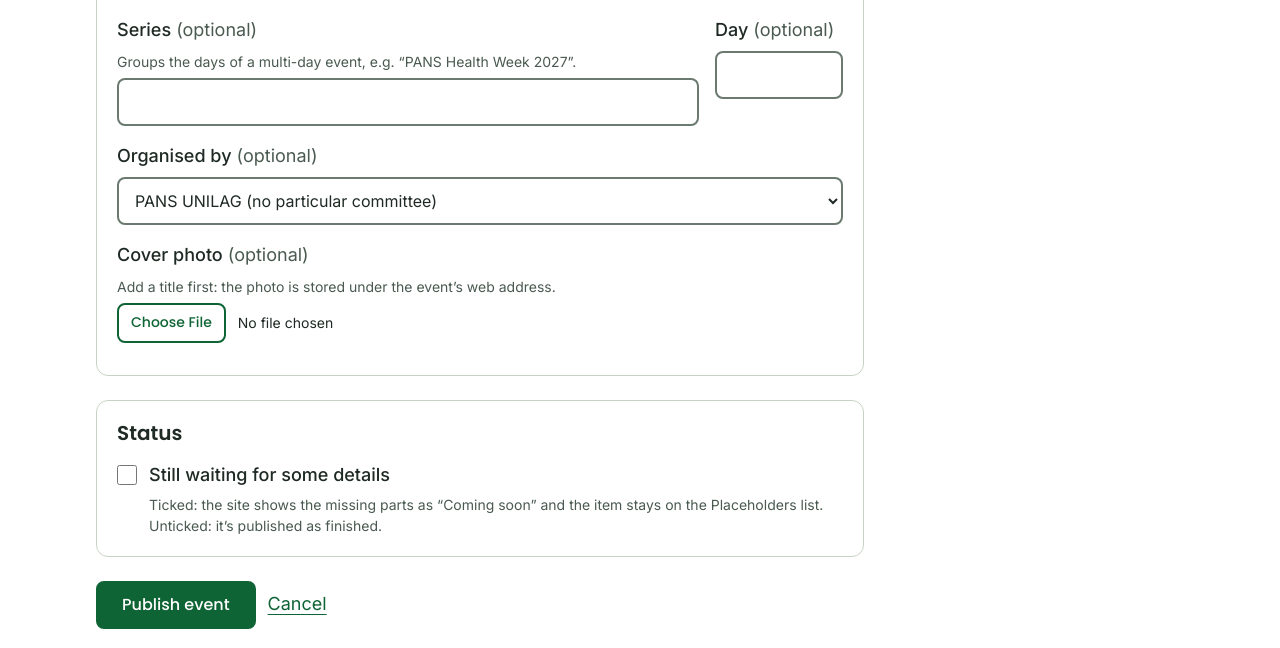
posting an event › checks the form before sending, and lists the problems
(page scrolled)
Click the button "Publish event": (176,604) [96,580,256,628]
(page scrolled)
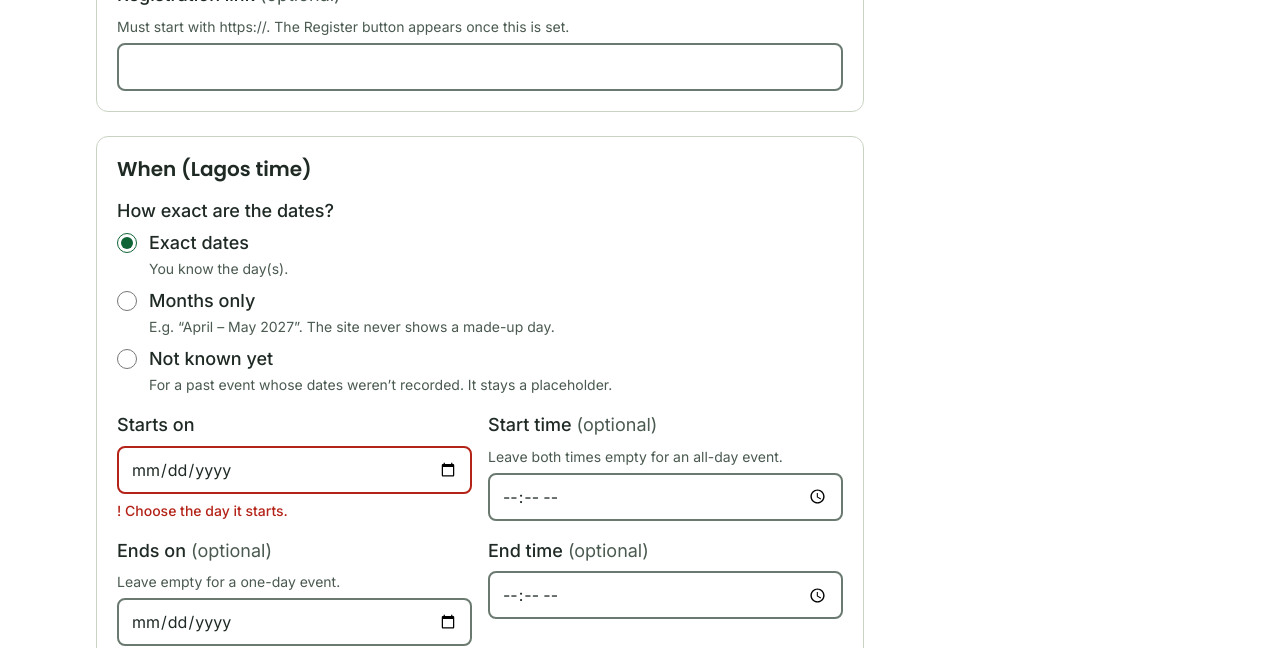
Expected: the date field labelled "Starts on" is marked as invalid, [117,446,472,494]
Click the radio button labelled "Months only": (127,301) [117,291,137,311]
(page scrolled)
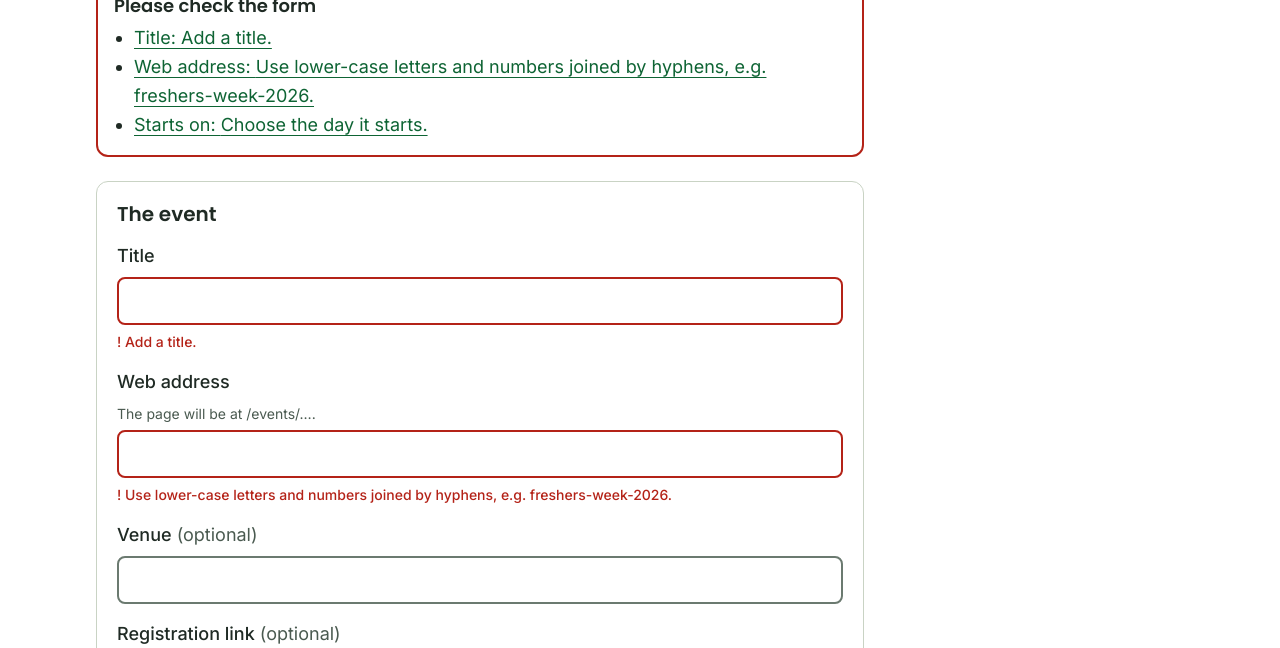
In the field labelled "Title": (480,301) [117,277,843,325], type "Pharmalympics 2027"
(page scrolled)
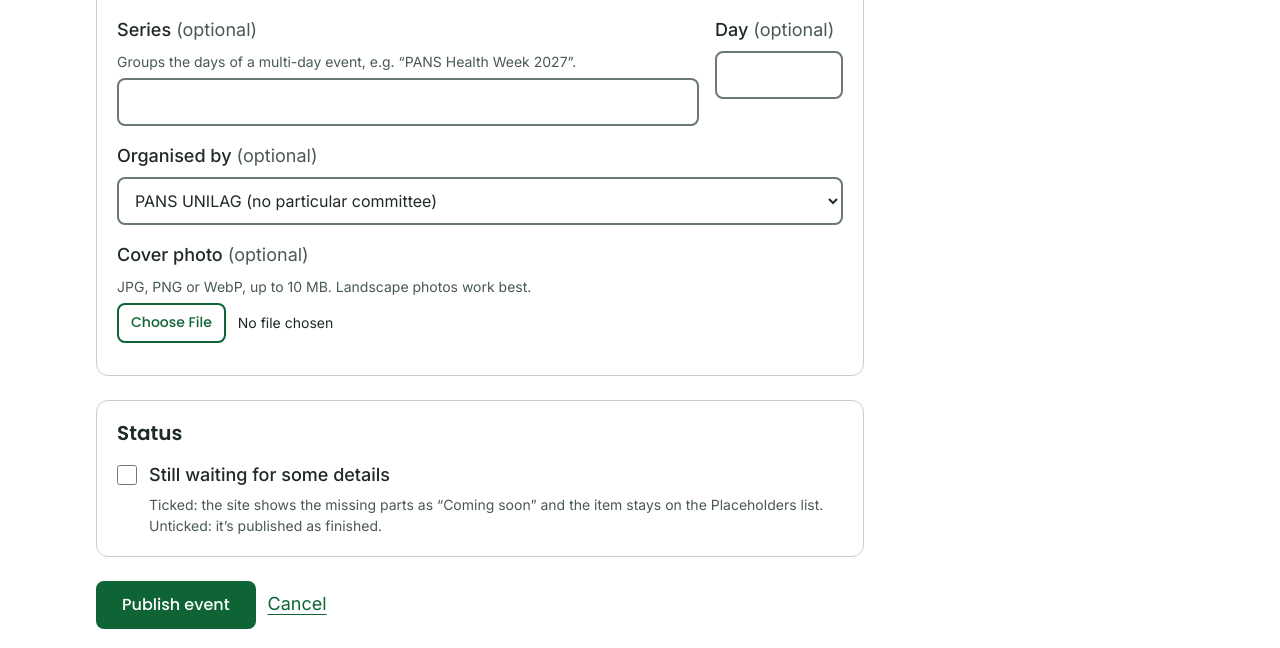
Click the button "Publish event": (176,604) [96,580,256,628]
(page scrolled)
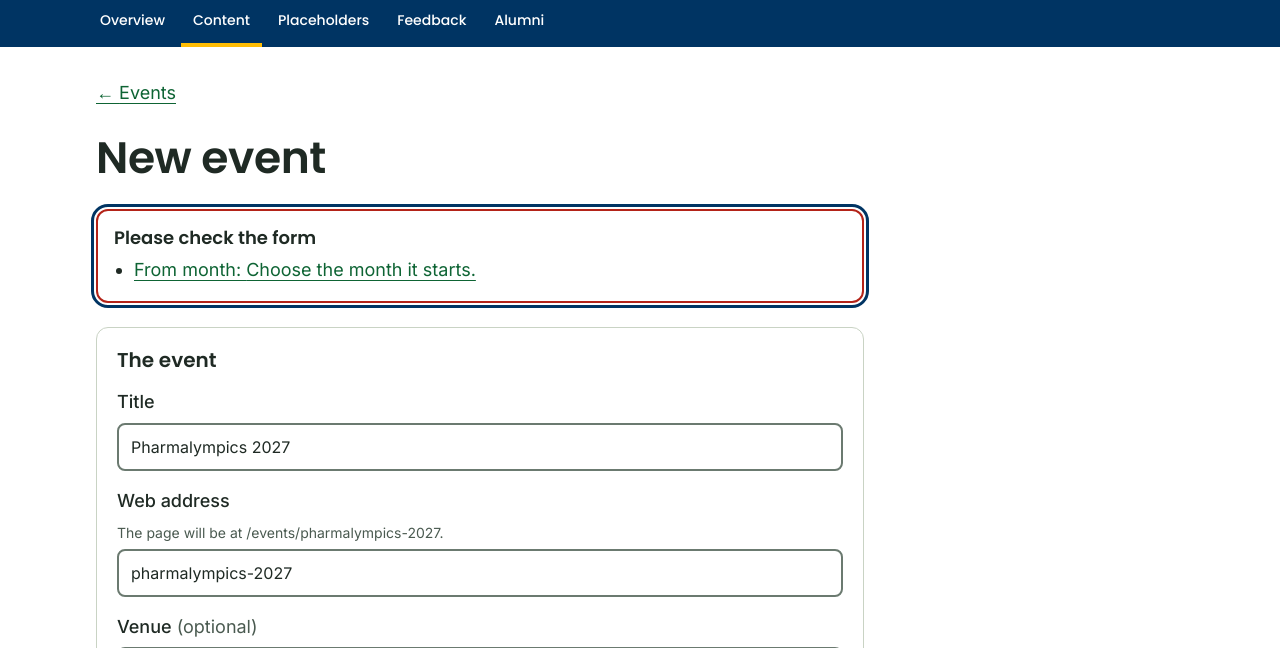
Expected: the link "From month: Choose the month it starts." is shown, [134,259,476,280]
